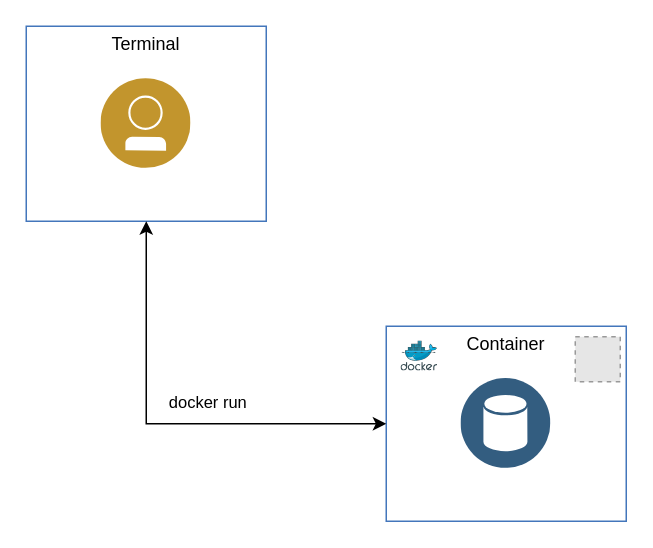
The diagram is 653 pixels wide and 548 high, and some of its shapes have lost their labels. Grey dashed boxes stand in for pictures. Each missing label, with the centre of its shape:
app-mycpp-cpp: (x=505, y=423)
Hello Docker container!: (x=145, y=123)
